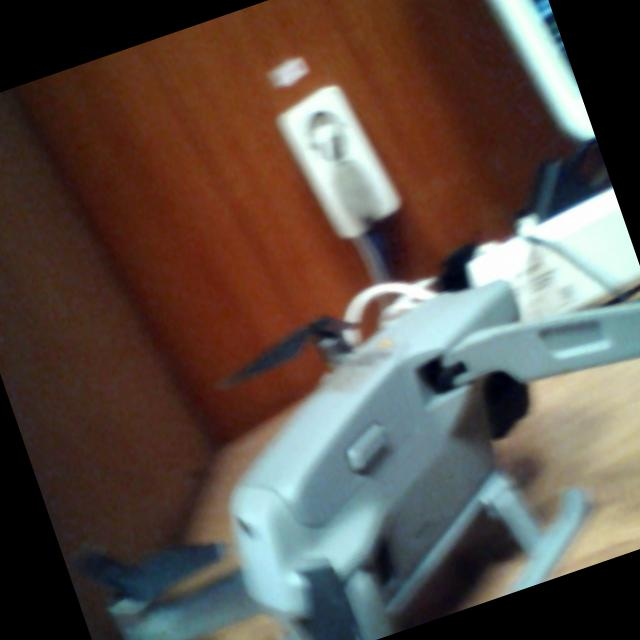drone: (30, 185, 640, 640)
